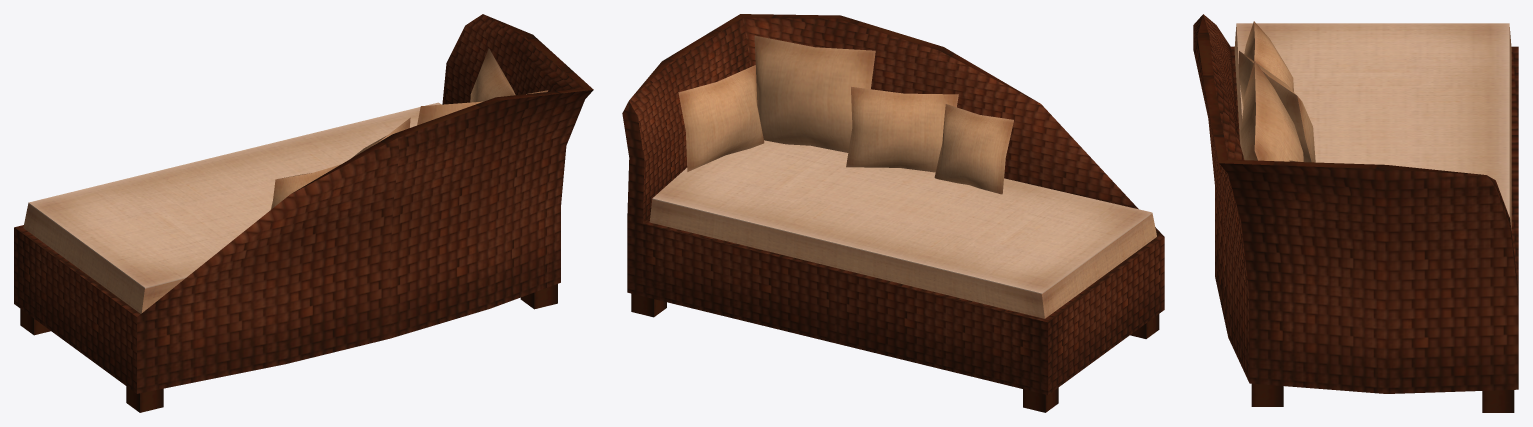
Rendered from ETC0610029.fbx.
3 views of the same model, side by side, from view 1: azimuth 30°, elevation 25°; view 2: azimuth 150°, elevation 25°; view 3: azimuth 270°, elevation 25° (orthographic). The views are drawn at different scales.
Parts seen in each view (by area): view 1: smETC0610029; view 2: smETC0610029; view 3: smETC0610029.
Boxes of the visible parts, x1,y1,x2,y2 form: smETC0610029: [14, 14, 593, 412]; smETC0610029: [622, 14, 1164, 412]; smETC0610029: [1193, 14, 1518, 412].
Size of the model in its own units: 249 by 121 by 129.
Materials: 1 (1 with a texture image).
